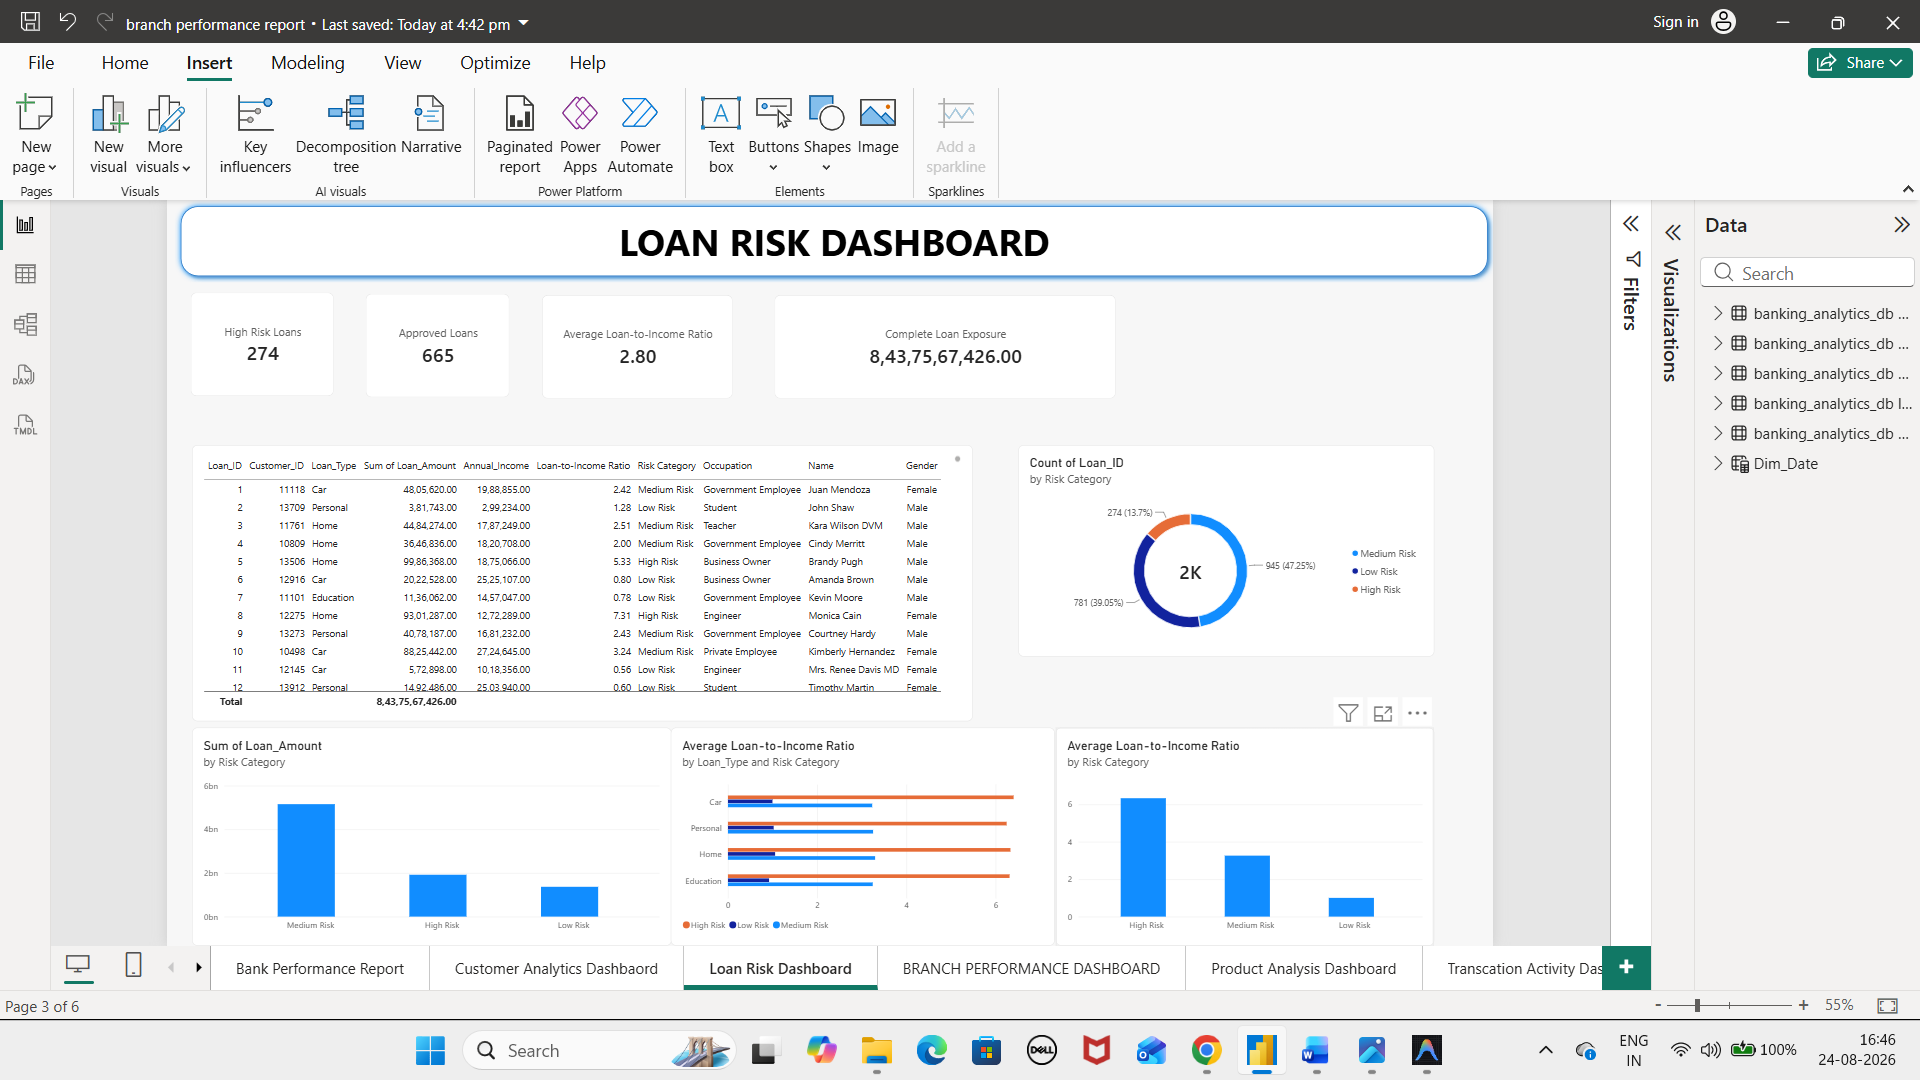

Layout of this report page (visuals, bound fields, positions):
{"tool":"powerbi","page":{"name":"Loan Risk Dashboard","canvas":[1920,1080],"ordinal":2},"visuals":[{"type":"shape","box":[10.3,0,1910.1,119.4],"z":0},{"type":"cardVisual","fields":{"Data":["banking_analytics_db loans.High Risk Loans"]},"box":[35,133.8,207.9,150.3],"z":1},{"type":"cardVisual","fields":{"Data":["Dim_Date.Approved Loans"]},"box":[288.2,135.8,208,150],"z":2},{"type":"cardVisual","fields":{"Data":["banking_analytics_db loans.Average Loan-to-Income Ratio"]},"box":[542,138,276,150],"z":3},{"type":"cardVisual","fields":{"Data":["Dim_Date.Complete Loan Exposure"]},"box":[880,138,494,150],"z":4},{"type":"tableEx","fields":{"Values":["banking_analytics_db loans.Loan_ID","banking_analytics_db loans.Customer_ID","banking_analytics_db loans.Loan_Type","Sum(banking_analytics_db loans.Loan_Amount)","banking_analytics_db customers.Annual_Income","banking_analytics_db loans.Loan-to-Income Ratio","banking_analytics_db loans.Risk Category","banking_analytics_db customers.Occupation","banking_analytics_db customers.Name","banking_analytics_db customers.Gender"]},"box":[36,354,1130,400],"z":5},{"type":"clusteredColumnChart","fields":{"Category":["banking_analytics_db loans.Risk Category"],"Y":["Sum(banking_analytics_db loans.Loan_Amount)"]},"box":[36,764,694,316],"z":6},{"type":"clusteredBarChart","fields":{"Category":["banking_analytics_db loans.Loan_Type"],"Series":["banking_analytics_db loans.Risk Category"],"Y":["banking_analytics_db loans.Average Loan-to-Income Ratio"]},"box":[730,764,556,316],"z":7},{"type":"donutChart","fields":{"Category":["banking_analytics_db loans.Risk Category"],"Y":["CountNonNull(banking_analytics_db loans.Loan_ID)"]},"box":[1232,354,602,306],"z":8},{"type":"clusteredColumnChart","fields":{"Category":["banking_analytics_db loans.Risk Category"],"Y":["banking_analytics_db loans.Average Loan-to-Income Ratio"]},"box":[1286,764,548,316],"z":9}]}

Visuals, with their boxes on the page's 1920x1080 design canvas (x1, y1, x2, y2). These are canvas units, not pixel positions in the 1920x1080 screenshot, which may show the page scaled, cropped or inside an application window:
shape: 10, 0, 1920, 119
cardVisual - banking_analytics_db loans.High Risk Loans: 35, 134, 243, 284
cardVisual - Dim_Date.Approved Loans: 288, 136, 496, 286
cardVisual - banking_analytics_db loans.Average Loan-to-Income Ratio: 542, 138, 818, 288
cardVisual - Dim_Date.Complete Loan Exposure: 880, 138, 1374, 288
tableEx - banking_analytics_db loans.Loan_ID x banking_analytics_db loans.Customer_ID: 36, 354, 1166, 754
clusteredColumnChart - banking_analytics_db loans.Risk Category x Sum(banking_analytics_db loans.Loan_Amount): 36, 764, 730, 1080
clusteredBarChart - banking_analytics_db loans.Loan_Type x banking_analytics_db loans.Risk Category: 730, 764, 1286, 1080
donutChart - banking_analytics_db loans.Risk Category x CountNonNull(banking_analytics_db loans.Loan_ID): 1232, 354, 1834, 660
clusteredColumnChart - banking_analytics_db loans.Risk Category x banking_analytics_db loans.Average Loan-to-Income Ratio: 1286, 764, 1834, 1080
